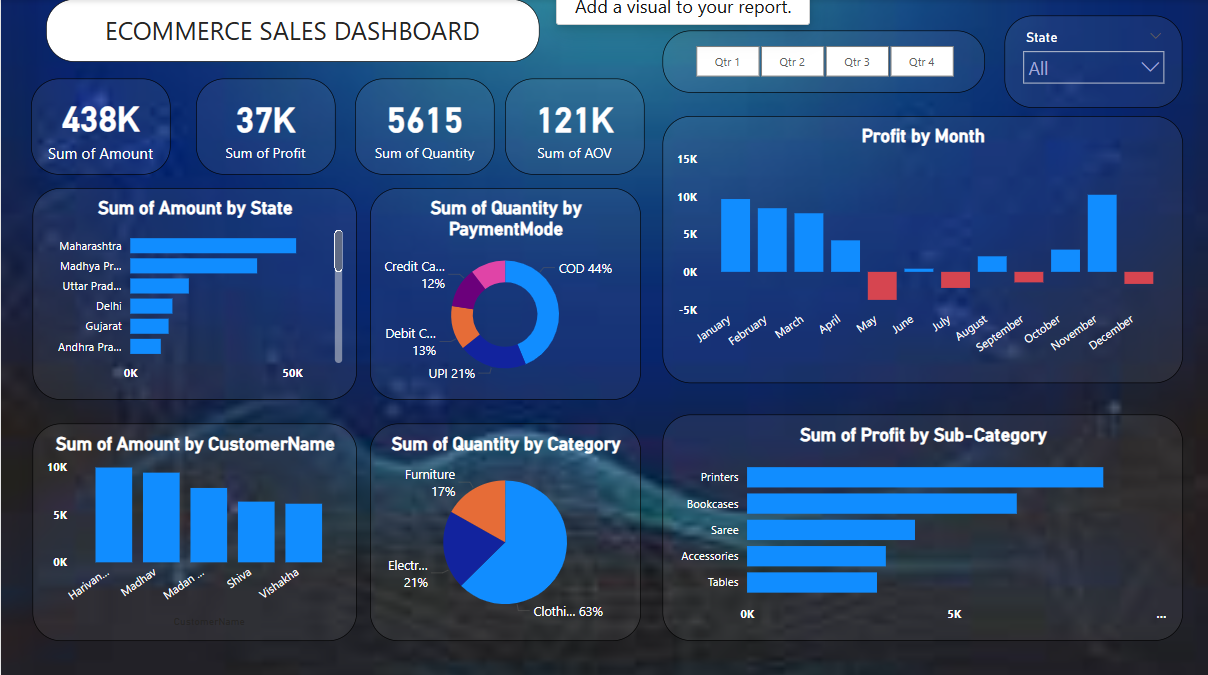

The page's visual inventory and layout, read from the dashboard file:
{"tool":"powerbi","page":{"name":"Page 1","canvas":[1280,720],"ordinal":0},"visuals":[{"type":"columnChart","title":"Profit by Month","fields":{"Category":["Orders.Order Date.Variation.Date Hierarchy.Month"],"Y":["Details.Profit"]},"box":[701.1,124.7,551.8,283.5],"z":0},{"type":"textbox","box":[47.7,0,523.3,66.8],"z":2000},{"type":"pieChart","fields":{"Category":["Details.Category"],"Y":["Details.Quantity"]},"box":[391.2,449.8,287.2,230.6],"z":3000},{"type":"donutChart","fields":{"Y":["Details.Quantity"],"Category":["Details.PaymentMode"]},"box":[391.2,200.3,287.2,224.9],"z":4000},{"type":"card","fields":{"Values":["Details.Amount"]},"box":[32.1,85,148,102],"z":5000},{"type":"card","fields":{"Values":["Details.Profit"]},"box":[206,85,148,102],"z":6000},{"type":"card","fields":{"Values":["Details.Quantity"]},"box":[376.1,85,148,102],"z":7000},{"type":"card","fields":{"Values":["Details.AOV"]},"box":[534.8,85,148,102],"z":8000},{"type":"barChart","fields":{"Category":["Orders.State"],"Y":["Details.Amount"]},"box":[34,200.3,343.9,224.9],"z":9000},{"type":"slicer","fields":{"Values":["Orders.Order Date.Variation.Date Hierarchy.Quarter"]},"box":[701.1,34,342,66.1],"z":10000},{"type":"slicer","fields":{"Values":["Orders.State"]},"box":[1063.9,17,189,98.3],"z":11000},{"type":"columnChart","fields":{"Category":["Orders.CustomerName"],"Y":["Details.Amount"]},"box":[34,449.8,343.9,230.6],"z":12000},{"type":"barChart","fields":{"Category":["Details.Sub-Category"],"Y":["Details.Profit"]},"box":[701.5,440.6,551.9,240.2],"z":13000}]}

Visuals, with their boxes in screenshot pixels (x1, y1, x2, y2), scaled from the page's 1280x720 canvas onto the 1208x675 screenshot:
"Profit by Month" columnChart: pyautogui.locateOnScreen(662, 117, 1182, 383)
textbox: pyautogui.locateOnScreen(45, 0, 539, 63)
pieChart - Details.Category x Details.Quantity: pyautogui.locateOnScreen(369, 422, 640, 638)
donutChart - Details.Quantity x Details.PaymentMode: pyautogui.locateOnScreen(369, 188, 640, 399)
card - Details.Amount: pyautogui.locateOnScreen(30, 80, 170, 175)
card - Details.Profit: pyautogui.locateOnScreen(194, 80, 334, 175)
card - Details.Quantity: pyautogui.locateOnScreen(355, 80, 495, 175)
card - Details.AOV: pyautogui.locateOnScreen(505, 80, 644, 175)
barChart - Orders.State x Details.Amount: pyautogui.locateOnScreen(32, 188, 357, 399)
slicer - Orders.Order Date.Variation.Date Hierarchy.Quarter: pyautogui.locateOnScreen(662, 32, 984, 94)
slicer - Orders.State: pyautogui.locateOnScreen(1004, 16, 1182, 108)
columnChart - Orders.CustomerName x Details.Amount: pyautogui.locateOnScreen(32, 422, 357, 638)
barChart - Details.Sub-Category x Details.Profit: pyautogui.locateOnScreen(662, 413, 1183, 638)
